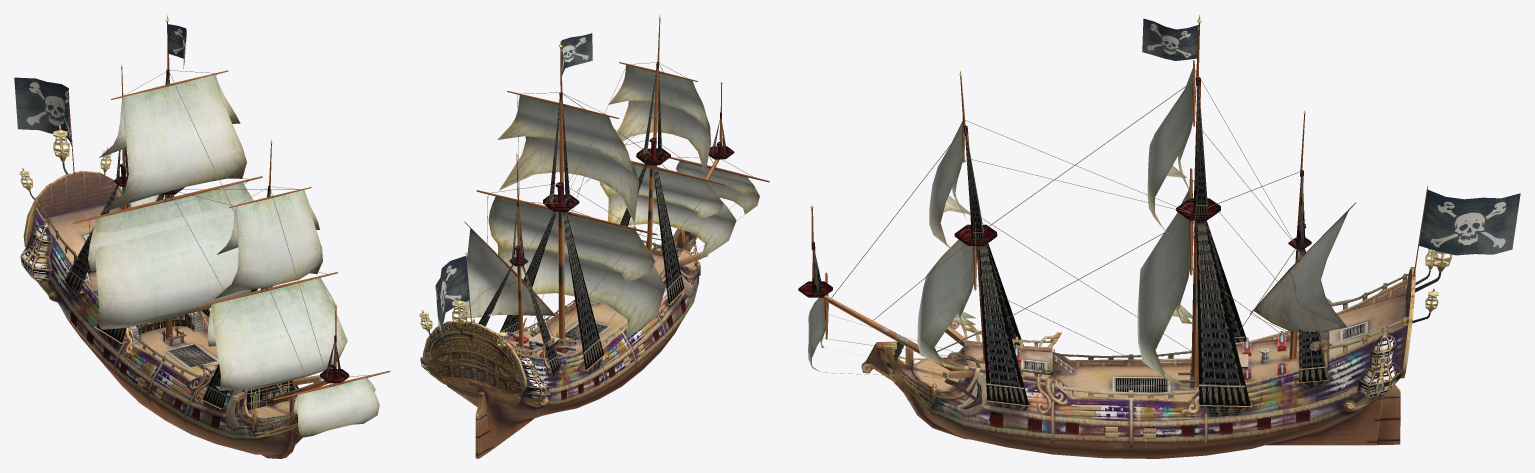
File: ship_merman.glb
3 views of the same model, side by side, from view 1: azimuth 30°, elevation 25°; view 2: azimuth 150°, elevation 25°; view 3: azimuth 270°, elevation 25° (orthographic). The views are drawn at different scales.
Parts seen in each view (by area): view 1: hull_hull_67, sail_hull_46_component_00, sail_hull_36_component_00, sail_hull_31_component_01, sail_hull_50_component_00, sail_hull_36_component_01, sail_hull_41_component_00, sail_hull_31_component_02, sail_hull_31_component_00, flag_hull_96_component_00, sail_furled_hull_59_component_00, hull_hull_74 (+9 smaller); view 2: hull_hull_67, sail_hull_36_component_00, sail_hull_31_component_02, sail_hull_23_component_00, sail_furled_hull_57_component_02, sail_furled_hull_59_component_00, sail_hull_31_component_01, sail_furled_hull_57_component_01, sail_hull_50_component_00, sail_furled_hull_65_component_00, native_hull_15_component_08, sail_hull_36_component_01 (+20 smaller); view 3: hull_hull_67, native_hull_15_component_07, flag_hull_96_component_00, sail_hull_23_component_00, native_hull_15_component_13, hull_hull_74, sail_hull_41_component_00, sail_hull_36_component_00, sail_hull_50_component_00, sail_hull_31_component_01, sail_hull_36_component_01, flag_hull_96_component_01 (+10 smaller).
Part boxes in pixels (x1=…): hull_hull_67: x1=20, y1=170, x2=322, y2=458; sail_hull_46_component_00: x1=122, y1=74, x2=246, y2=195; sail_hull_36_component_00: x1=95, y1=186, x2=246, y2=329; sail_hull_31_component_01: x1=214, y1=190, x2=322, y2=299; sail_hull_50_component_00: x1=96, y1=248, x2=251, y2=328; sail_hull_36_component_01: x1=212, y1=278, x2=332, y2=390; sail_hull_41_component_00: x1=211, y1=277, x2=347, y2=390; sail_hull_31_component_02: x1=101, y1=77, x2=242, y2=213; sail_hull_31_component_00: x1=255, y1=378, x2=379, y2=437; flag_hull_96_component_00: x1=14, y1=77, x2=71, y2=145; sail_furled_hull_59_component_00: x1=89, y1=182, x2=253, y2=246; hull_hull_74: x1=37, y1=183, x2=297, y2=437; hull_hull_67: x1=420, y1=230, x2=708, y2=458; sail_hull_36_component_00: x1=497, y1=244, x2=665, y2=330; sail_hull_31_component_02: x1=499, y1=137, x2=638, y2=223; sail_hull_23_component_00: x1=461, y1=229, x2=554, y2=317; sail_furled_hull_57_component_02: x1=497, y1=96, x2=632, y2=172; sail_furled_hull_59_component_00: x1=488, y1=212, x2=654, y2=279; sail_hull_31_component_01: x1=616, y1=100, x2=710, y2=174; sail_furled_hull_57_component_01: x1=609, y1=65, x2=707, y2=128; sail_hull_50_component_00: x1=494, y1=196, x2=664, y2=339; sail_furled_hull_65_component_00: x1=490, y1=196, x2=649, y2=282; native_hull_15_component_08: x1=562, y1=212, x2=603, y2=374; sail_hull_36_component_01: x1=608, y1=194, x2=736, y2=250; hull_hull_67: x1=861, y1=267, x2=1415, y2=458; native_hull_15_component_07: x1=1196, y1=222, x2=1250, y2=416; flag_hull_96_component_00: x1=1419, y1=189, x2=1520, y2=255; sail_hull_23_component_00: x1=1254, y1=210, x2=1348, y2=332; native_hull_15_component_13: x1=979, y1=244, x2=1028, y2=410; hull_hull_74: x1=884, y1=273, x2=1408, y2=410; sail_hull_41_component_00: x1=917, y1=239, x2=976, y2=366; sail_hull_36_component_00: x1=1140, y1=188, x2=1189, y2=386; sail_hull_50_component_00: x1=1137, y1=233, x2=1196, y2=390; sail_hull_31_component_01: x1=929, y1=121, x2=970, y2=268; sail_hull_36_component_01: x1=917, y1=241, x2=977, y2=372; flag_hull_96_component_01: x1=1142, y1=18, x2=1198, y2=60.
Bounding box in the file's own units: 16.28 × 30.81 × 46.93.
127 materials, 127 textured.
